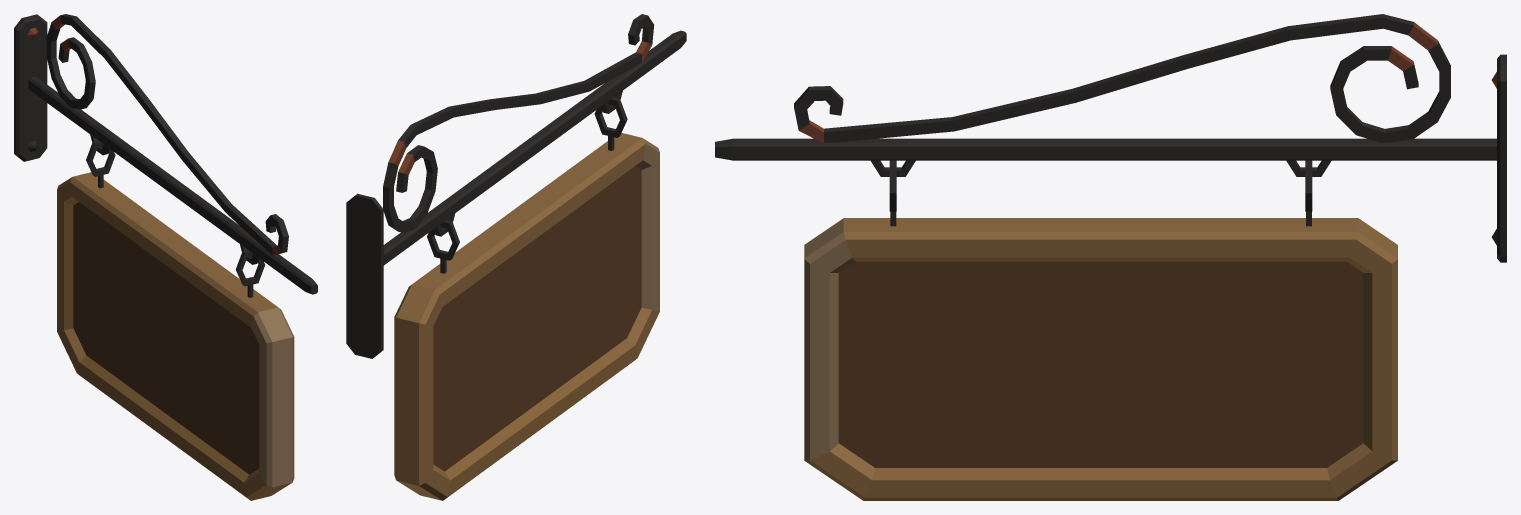
Rendered from hanging-shop-sign-18d2b0.glb.
The picture shows the model from 3 angles, left to right: view 1: azimuth 30°, elevation 25°; view 2: azimuth 150°, elevation 25°; view 3: azimuth 270°, elevation 25°; orthographic projection. The views are drawn at different scales.
Parts seen in each view (by area): view 1: signboard, bracket; view 2: signboard, bracket; view 3: signboard, bracket.
Part boxes in pixels (x1,y1,x2,y2): signboard: (57,140,294,500); bracket: (14,14,317,294); signboard: (394,97,659,500); bracket: (346,14,686,358); signboard: (804,160,1397,500); bracket: (715,14,1506,262).
Bounding box in the file's own units: 0.1 × 1.07 × 1.6.
